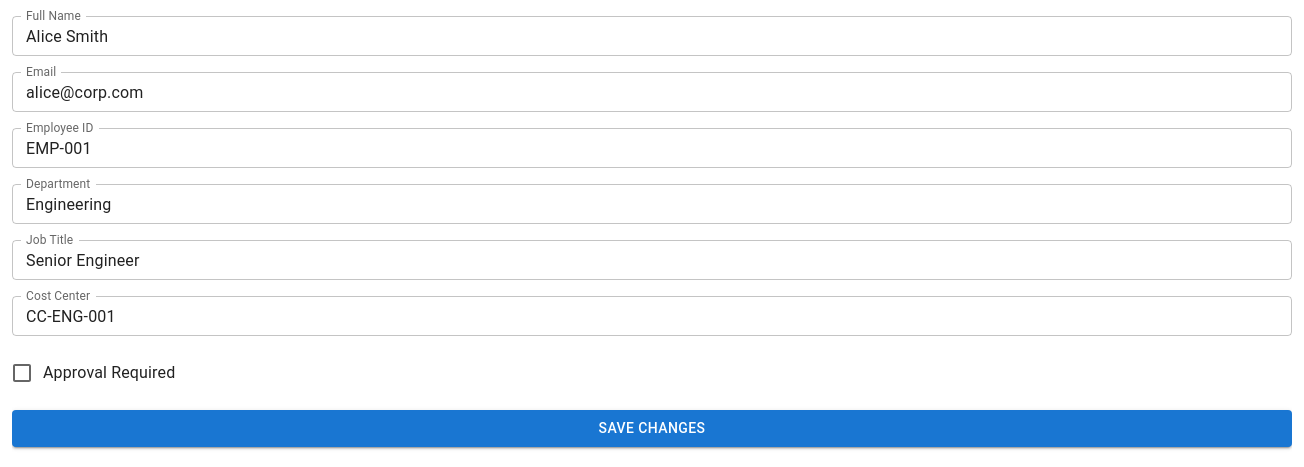
it: ProfileForm › REQ-PROFILE-FORM-S03: loading state disables submit button
Replace the text in the field labelled "Department" with "HR" at point(652, 204), box left=12, top=184, right=1292, bottom=224
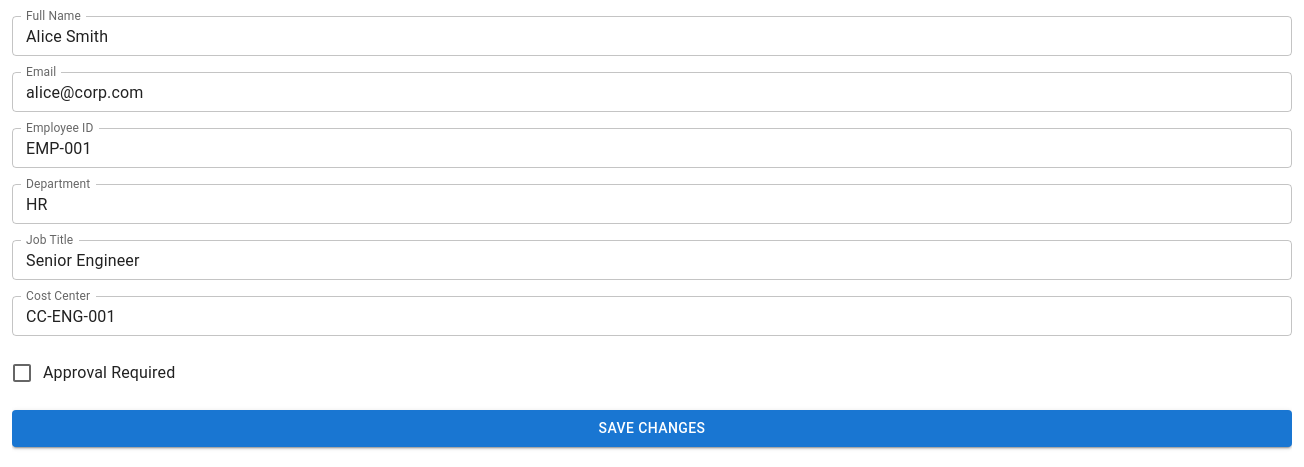
Click the button with test id "profile-submit" at point(652, 428), box left=12, top=410, right=1292, bottom=446
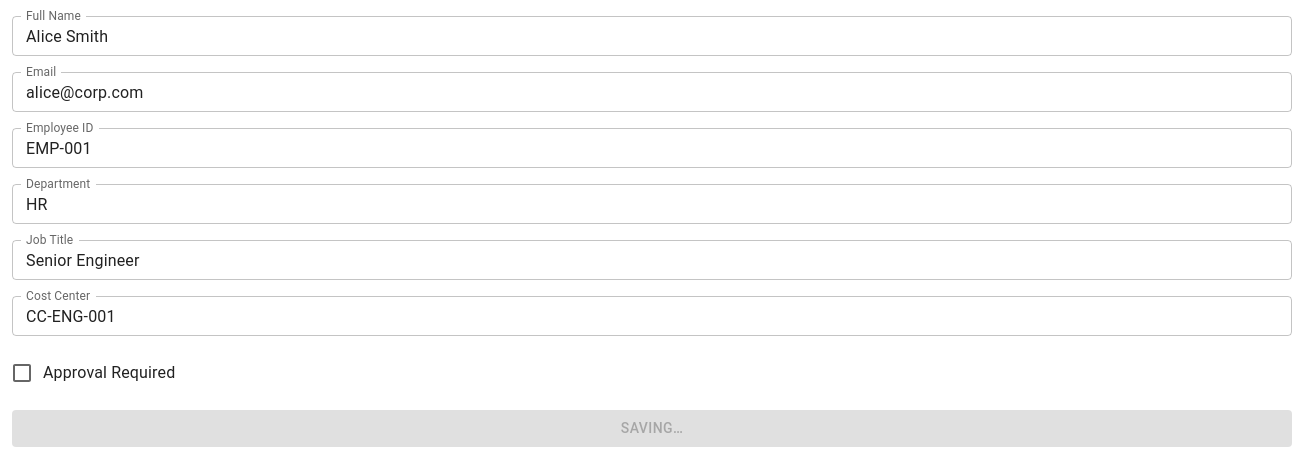
Now the button with test id "profile-submit" is disabled, box left=12, top=410, right=1292, bottom=446
